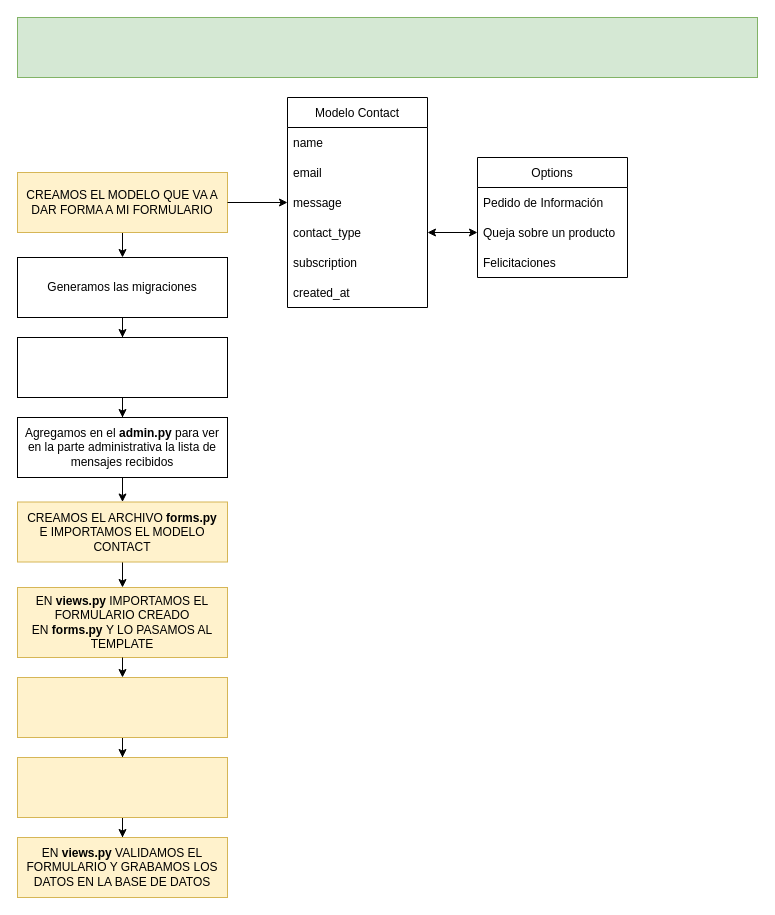
Image size: 775x915. Some labels were removed from this diagram. The shapes that lost their labels are listed below. From the top down, each one's centre as x and y in pixels, then its label:
At point 387,47: "FORMULARIOS BASADOS EN MODELOS".
At point 122,367: "Creamos un superusuario".
At point 122,707: "EN EL TEMPLATE REPRESENTAMOS LA VARIABLE QUE CARGA EL FORMULARIO".
At point 122,787: "PARA DARLE FORMATO AL FORMULARIO INSTALAMOS LA LIBRERIA CRISPY-FORMS".
